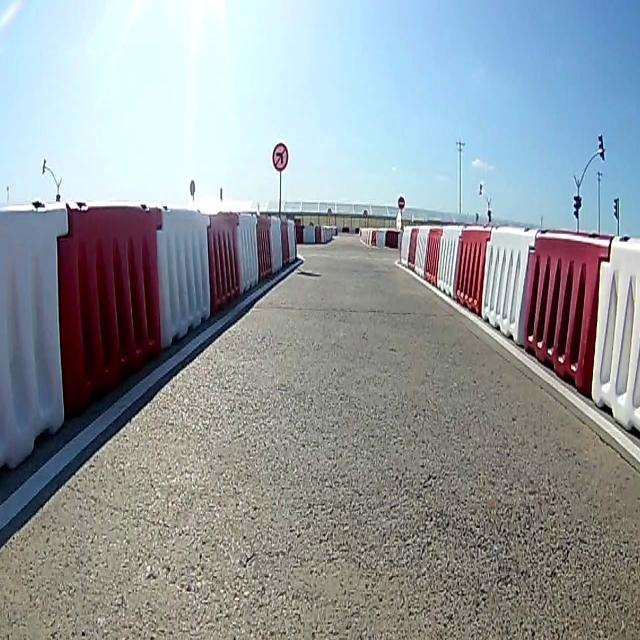girisyok: (397, 197, 405, 207)
soladonulmez: (272, 140, 290, 172)
